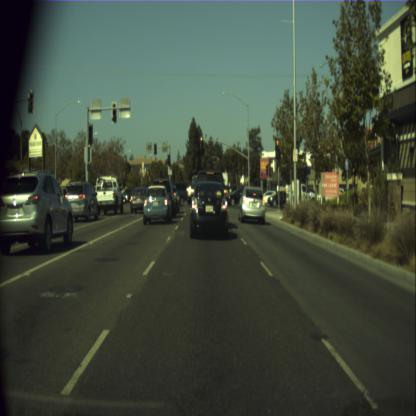Red: (199, 134, 203, 150), (249, 165, 250, 174)
RedStraight: (274, 138, 280, 156)
Yellow: (87, 140, 90, 152)
off: (167, 153, 170, 164), (154, 142, 156, 154)
